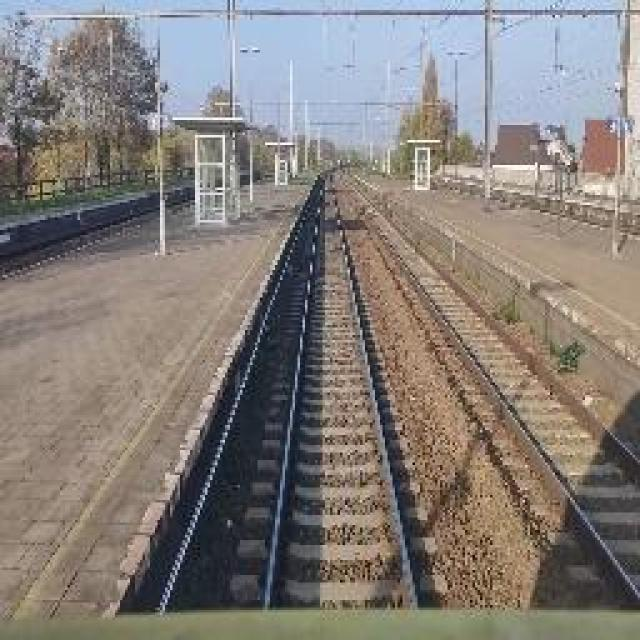rail: (339, 177, 640, 614), (216, 174, 461, 616)
